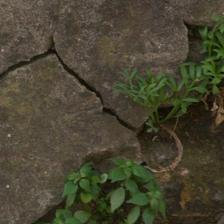Crack: (36, 40, 68, 132), (8, 37, 48, 104)
